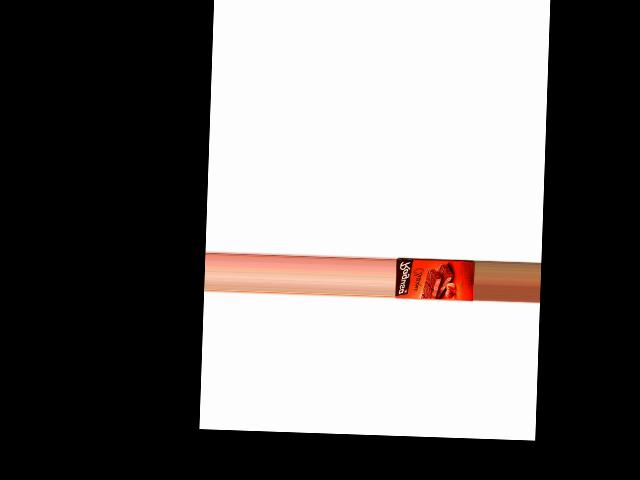chocolate: (396, 255, 475, 305)
